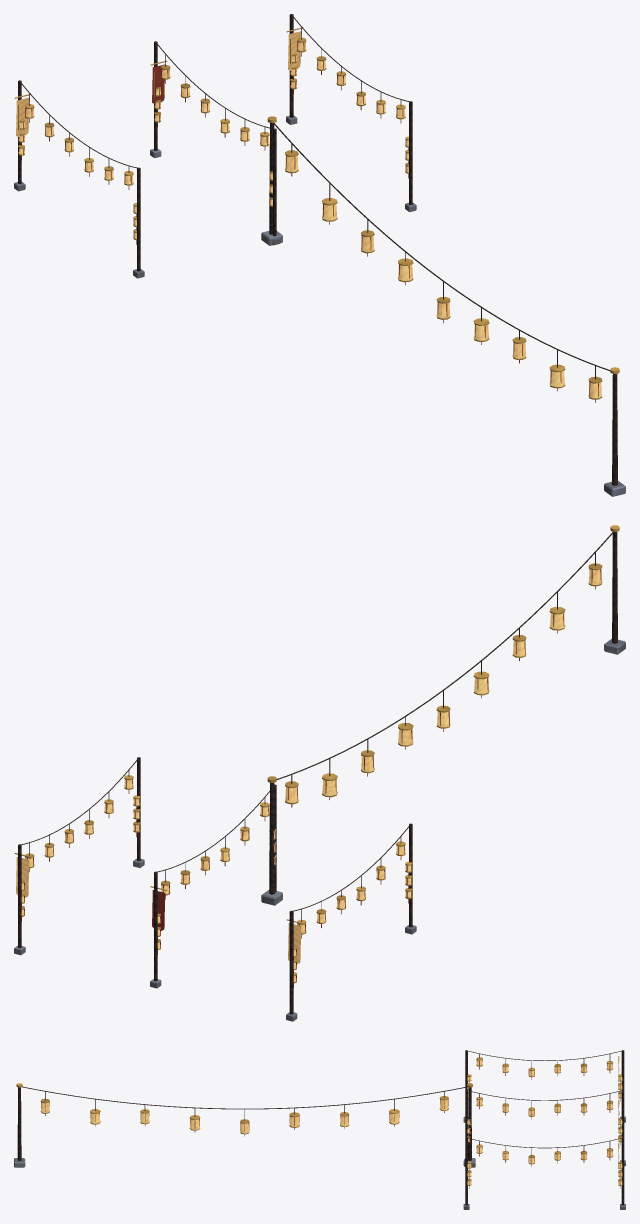
Rendered from model-lantern-array-s4.glb.
3 views of the same model, one above another, from view 1: azimuth 30°, elevation 25°; view 2: azimuth 150°, elevation 25°; view 3: azimuth 270°, elevation 25° (orthographic). The views are drawn at different scales.
Visible parts, largest first — view 1: model-lantern-array-s4; view 2: model-lantern-array-s4; view 3: model-lantern-array-s4.
Boxes of the visible parts, x1,y1,x2,y2 form: model-lantern-array-s4: [14, 14, 625, 496]; model-lantern-array-s4: [14, 525, 625, 1021]; model-lantern-array-s4: [14, 1050, 625, 1209].
Size of the model in its own units: 12.72 by 5.2 by 35.6.
6 materials, 6 textured.
